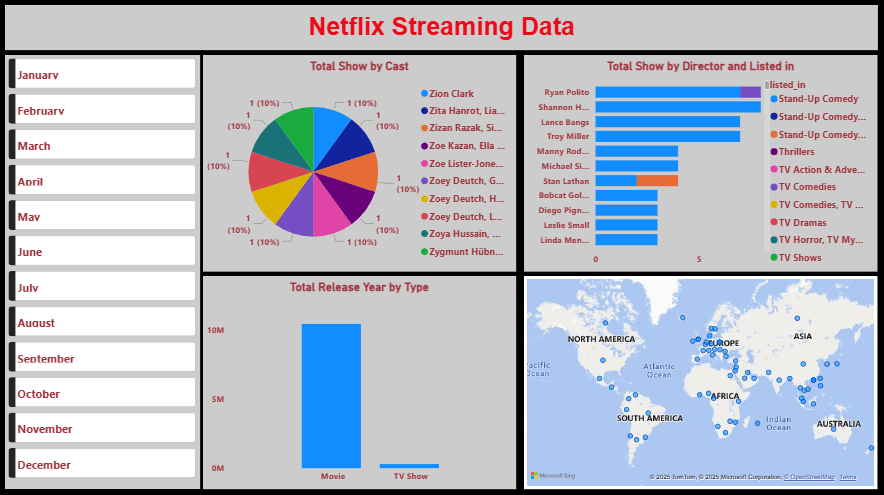

The dashboard page shown, as its layout file describes it:
{"tool":"powerbi","page":{"name":"Page 1","canvas":[1280,720],"ordinal":0},"visuals":[{"type":"advancedSlicerVisual","fields":{"Values":["netflix_titles.date_added.Variation.Date Hierarchy.Month"]},"box":[10.1,83.5,280.8,625],"z":0},{"type":"textbox","box":[10.1,11.5,1257.1,64.8],"z":1000},{"type":"pieChart","title":"Total Show by Cast","fields":{"Category":["netflix_titles.cast"],"Y":["netflix_titles.show_id"]},"box":[295.2,83.5,450.7,312.5],"z":2000},{"type":"clusteredColumnChart","title":"Total Release Year by Type","fields":{"Category":["netflix_titles.type"],"Y":["netflix_titles.release_year"]},"box":[295.2,401.8,450.7,306.7],"z":3000},{"type":"map","fields":{"Category":["netflix_titles.country"]},"box":[757.6,401.5,509,307.4],"z":4000},{"type":"barChart","title":"Total Show by Director and Listed in","fields":{"Category":["netflix_titles.director"],"Y":["netflix_titles.show_id"],"Series":["netflix_titles.listed_in"]},"box":[757.6,84,509,312.4],"z":5000}]}

Visuals, with their boxes in screenshot pixels (x1, y1, x2, y2), scaled from the page's 1280x720 canvas onto the 884x495 screenshot:
advancedSlicerVisual - netflix_titles.date_added.Variation.Date Hierarchy.Month: pyautogui.locateOnScreen(7, 57, 201, 487)
textbox: pyautogui.locateOnScreen(7, 8, 875, 52)
"Total Show by Cast" pieChart: pyautogui.locateOnScreen(204, 57, 515, 272)
"Total Release Year by Type" clusteredColumnChart: pyautogui.locateOnScreen(204, 276, 515, 487)
map - netflix_titles.country: pyautogui.locateOnScreen(523, 276, 875, 487)
"Total Show by Director and Listed in" barChart: pyautogui.locateOnScreen(523, 58, 875, 273)
